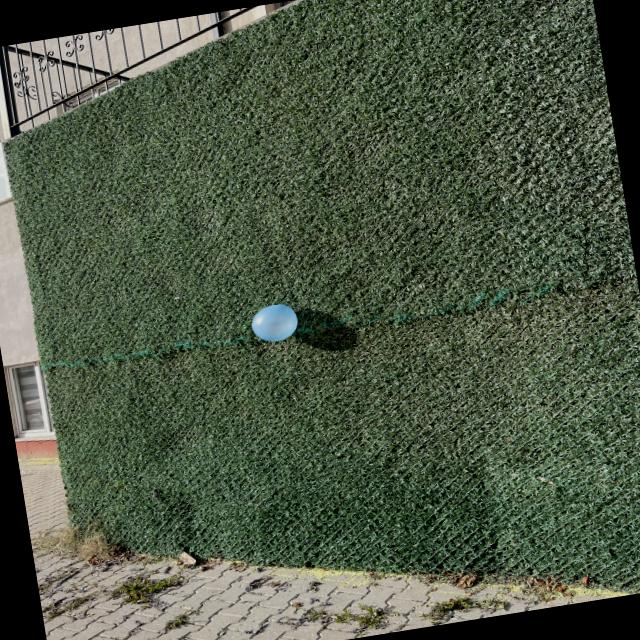balloon: (252, 304, 298, 342)
